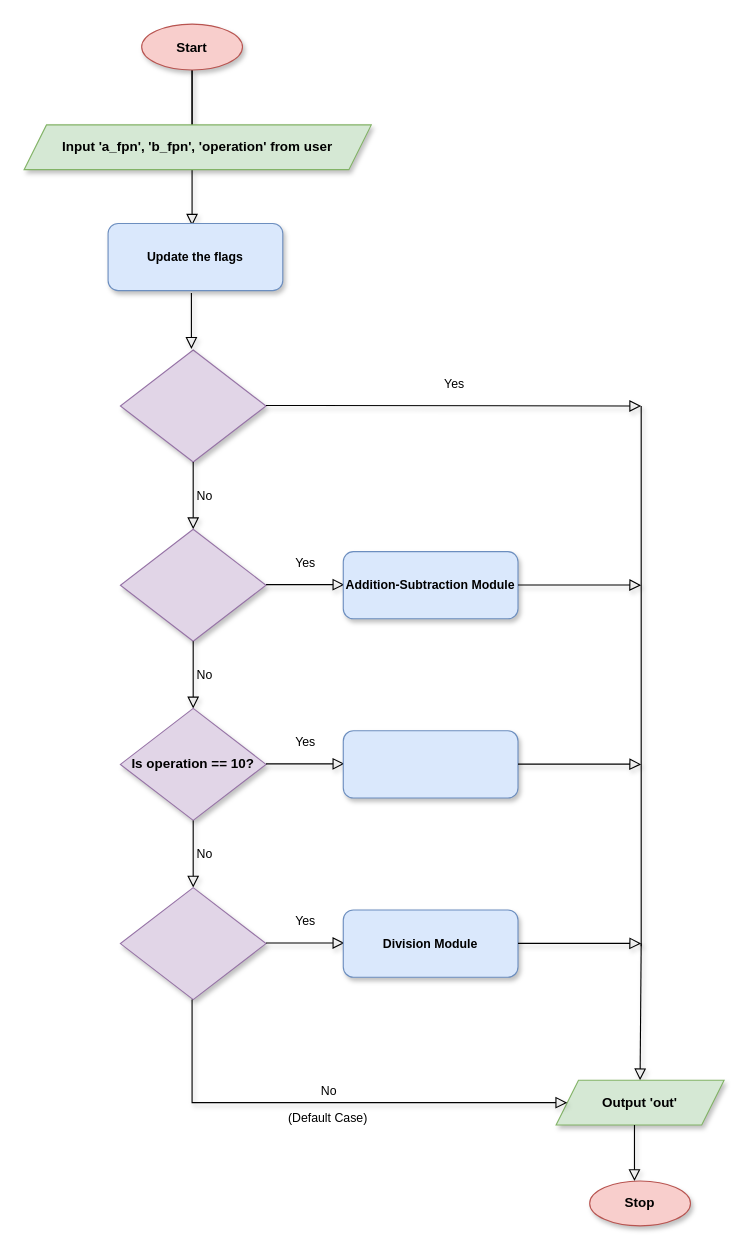
The diagram is 750 pixels wide and 1253 high, and some of its shapes have lost their labels. The centre of each missing label's shape, as x and y in pixels:
Is a_fpn == NaN || b_fpn == NaN?: point 194,407
Is operation == 00 || 01?: point 194,586
Is operation == 11?: point 194,944
Multiplication Module: point 431,765
